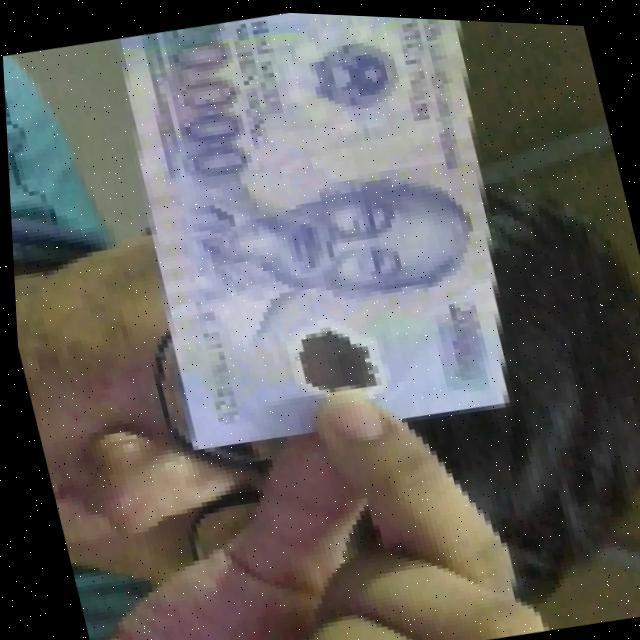20 000 VND: (86, 3, 571, 470)
